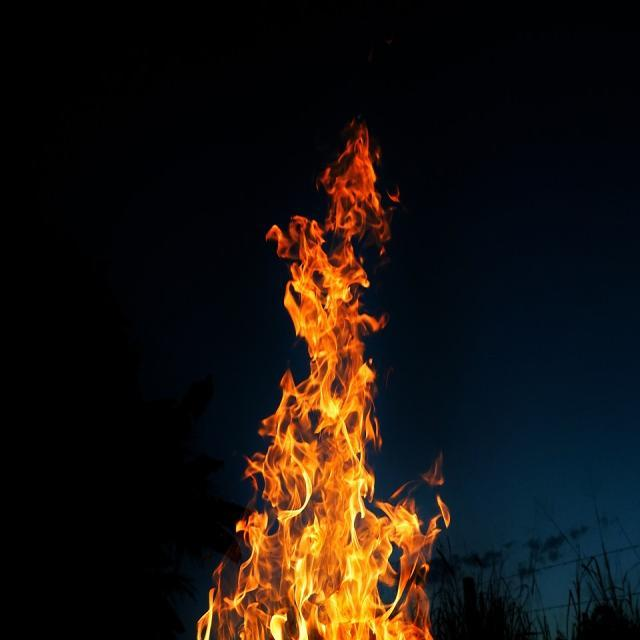Fire: (197, 122, 450, 640)
